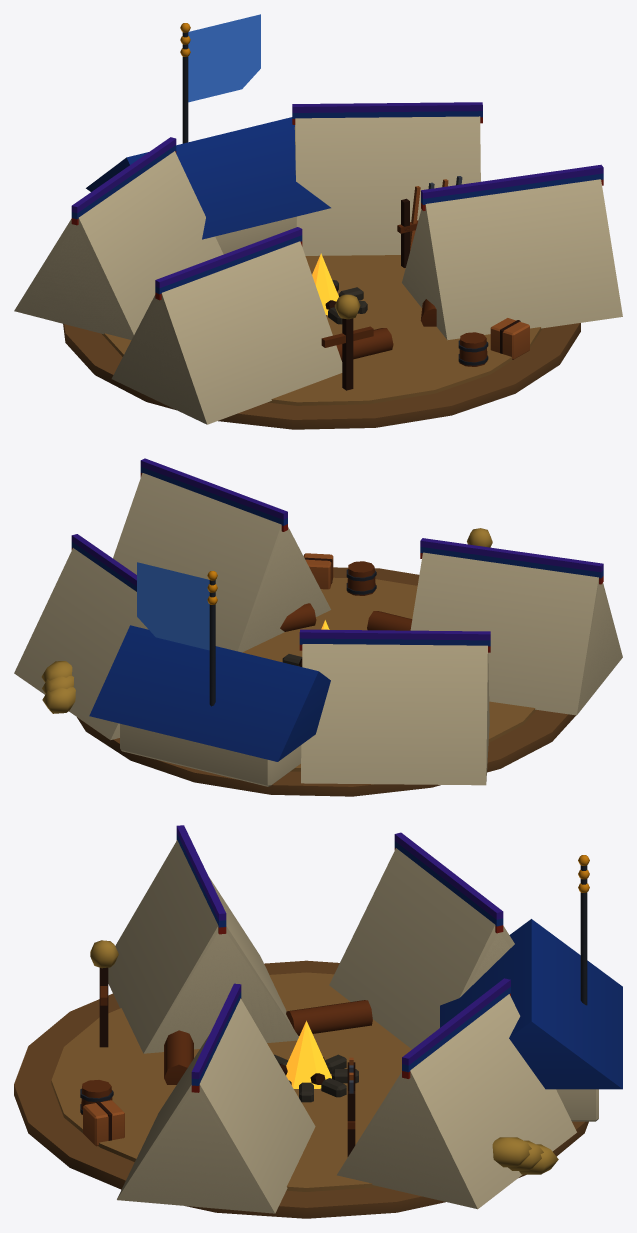
Rendered from b_camp.glb.
3 renders of one model, top to bottom at view 1: azimuth 30°, elevation 25°; view 2: azimuth 150°, elevation 25°; view 3: azimuth 270°, elevation 25°, orthographic. The views are drawn at different scales.
Parts seen in each view (by area): view 1: camp_t3_body, camp_t1_body, camp_t2_body, camp_t1__banner, camp_t2__banner, camp_t3__banner, camp_t1__flame; view 2: camp_t3_body, camp_t2_body, camp_t1_body, camp_t1__banner, camp_t2__banner, camp_t3__banner; view 3: camp_t3_body, camp_t1_body, camp_t2_body, camp_t1__flame.
Part boxes in pixels (x1,y1,x2,y2): camp_t3_body: (15, 23, 622, 424); camp_t1_body: (14, 48, 603, 429); camp_t2_body: (14, 36, 603, 424); camp_t1__banner: (188, 39, 260, 102); camp_t2__banner: (188, 26, 260, 88); camp_t3__banner: (188, 14, 260, 75); camp_t1__flame: (312, 253, 338, 315); camp_t3_body: (14, 458, 622, 785); camp_t2_body: (41, 467, 622, 786); camp_t1_body: (71, 473, 622, 796); camp_t1__banner: (137, 586, 209, 650); camp_t2__banner: (137, 574, 209, 635); camp_t3__banner: (137, 562, 209, 624); camp_t3_body: (108, 825, 589, 1213); camp_t1_body: (14, 840, 589, 1218); camp_t2_body: (117, 833, 622, 1213); camp_t1__flame: (286, 1020, 331, 1088).
Bounding box in the file's own units: 4.1 × 1.72 × 4.06.
